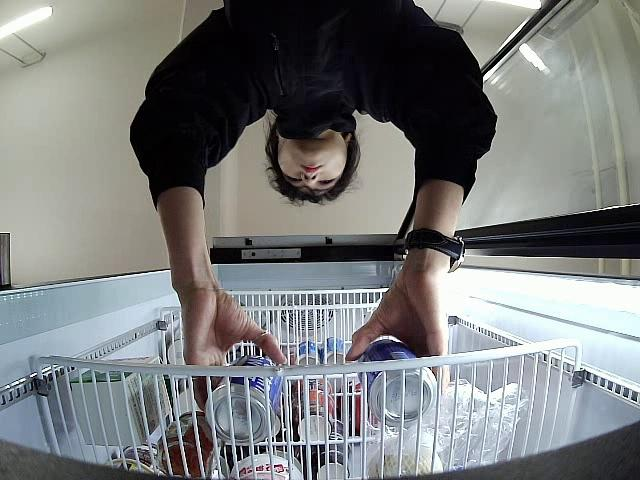00_hand: (182, 291, 287, 408), (343, 281, 449, 383)
13_pocariSweat: (205, 355, 283, 445), (357, 339, 436, 426)
